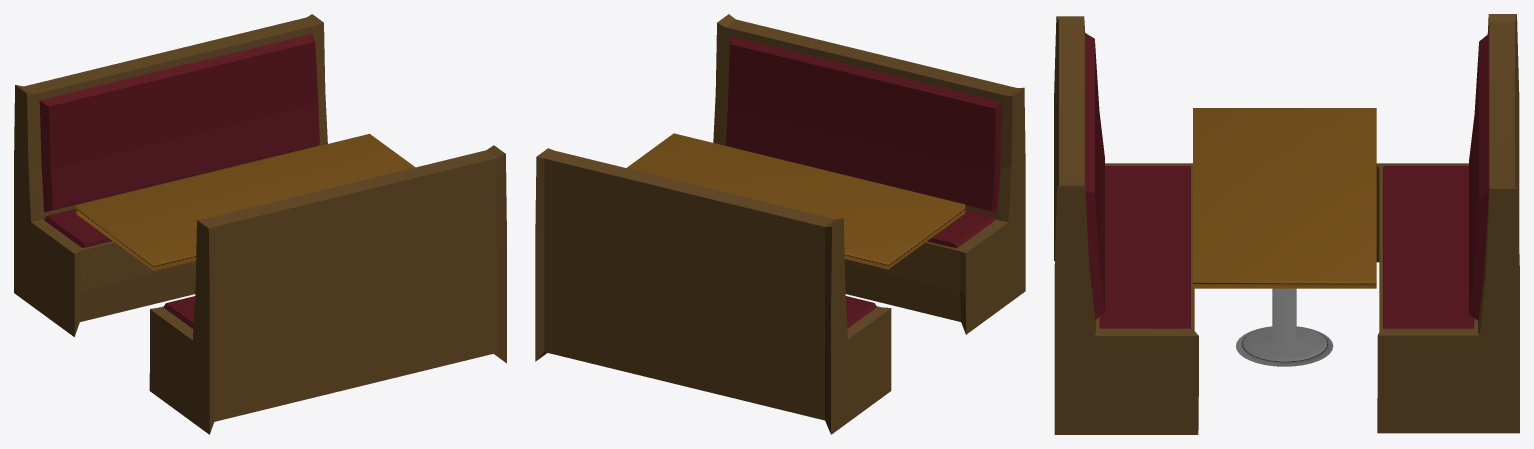
The model's file is Booth_C.fbx.
3 renders of one model, left to right at view 1: azimuth 30°, elevation 25°; view 2: azimuth 150°, elevation 25°; view 3: azimuth 270°, elevation 25°, orthographic. The views are drawn at different scales.
Visible parts, largest first — view 1: Cube.001, Cube.002, Cylinder.001; view 2: Cube.002, Cube.001, Cylinder.001; view 3: Cube.002, Cube.001, Cylinder.001.
Boxes of the visible parts, box(x1,y1,x2,y2) form: Cube.001: box(149, 145, 506, 434); Cube.002: box(14, 14, 327, 336); Cylinder.001: box(76, 133, 415, 270); Cube.002: box(535, 148, 891, 434); Cube.001: box(713, 14, 1025, 334); Cylinder.001: box(626, 133, 965, 269); Cube.002: box(1376, 14, 1519, 433); Cube.001: box(1054, 16, 1198, 434); Cylinder.001: box(1193, 108, 1376, 366).
Size of the model in its own units: 1.8 by 1.21 by 2.05.
